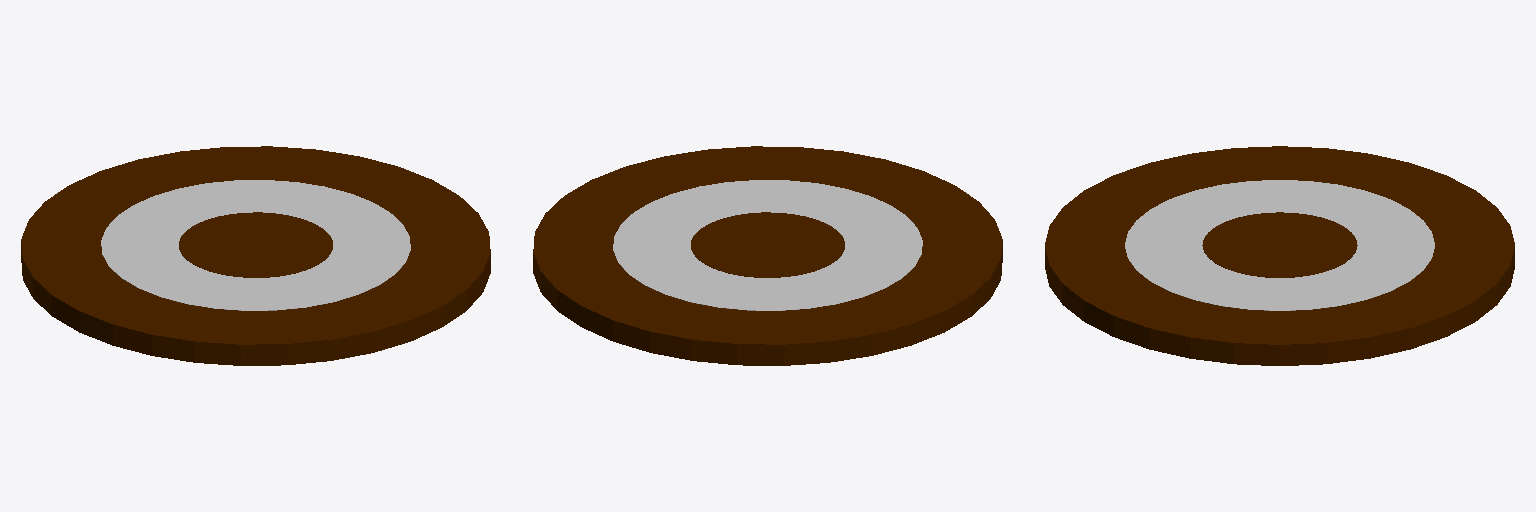
The model's file is target_2.obj.
3 views of the same model, side by side, from view 1: azimuth 30°, elevation 25°; view 2: azimuth 150°, elevation 25°; view 3: azimuth 270°, elevation 25° (orthographic).
Visible parts, largest first — view 1: Cylinder, Cylinder.001, Cylinder.002; view 2: Cylinder, Cylinder.001, Cylinder.002; view 3: Cylinder, Cylinder.001, Cylinder.002.
Part boxes in pixels (x1,y1,x2,y2): Cylinder: (21,146,490,365); Cylinder.001: (101,180,410,310); Cylinder.002: (179,212,332,277); Cylinder: (533,146,1002,365); Cylinder.001: (613,180,922,310); Cylinder.002: (691,212,844,277); Cylinder: (1045,146,1514,365); Cylinder.001: (1125,180,1434,310); Cylinder.002: (1202,212,1357,277).
Bounding box in the file's own units: 0.2 × 0.0102 × 0.2.